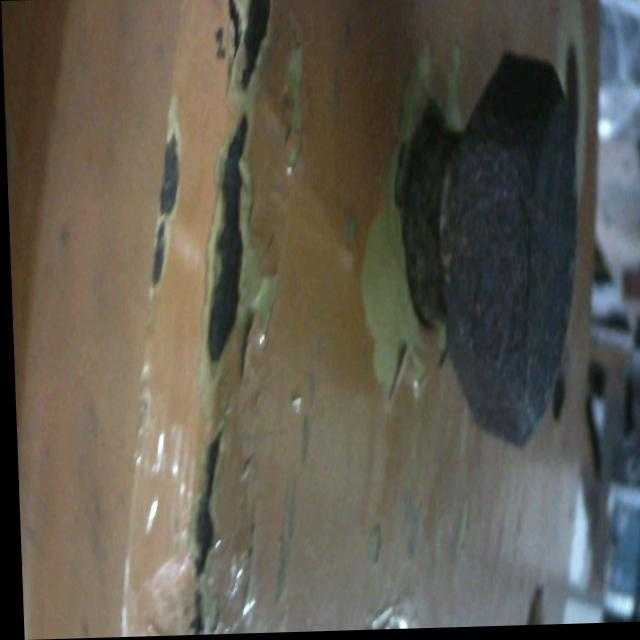Loose bolt: (394, 43, 581, 455)
Rusty bolt: (396, 56, 578, 455)
